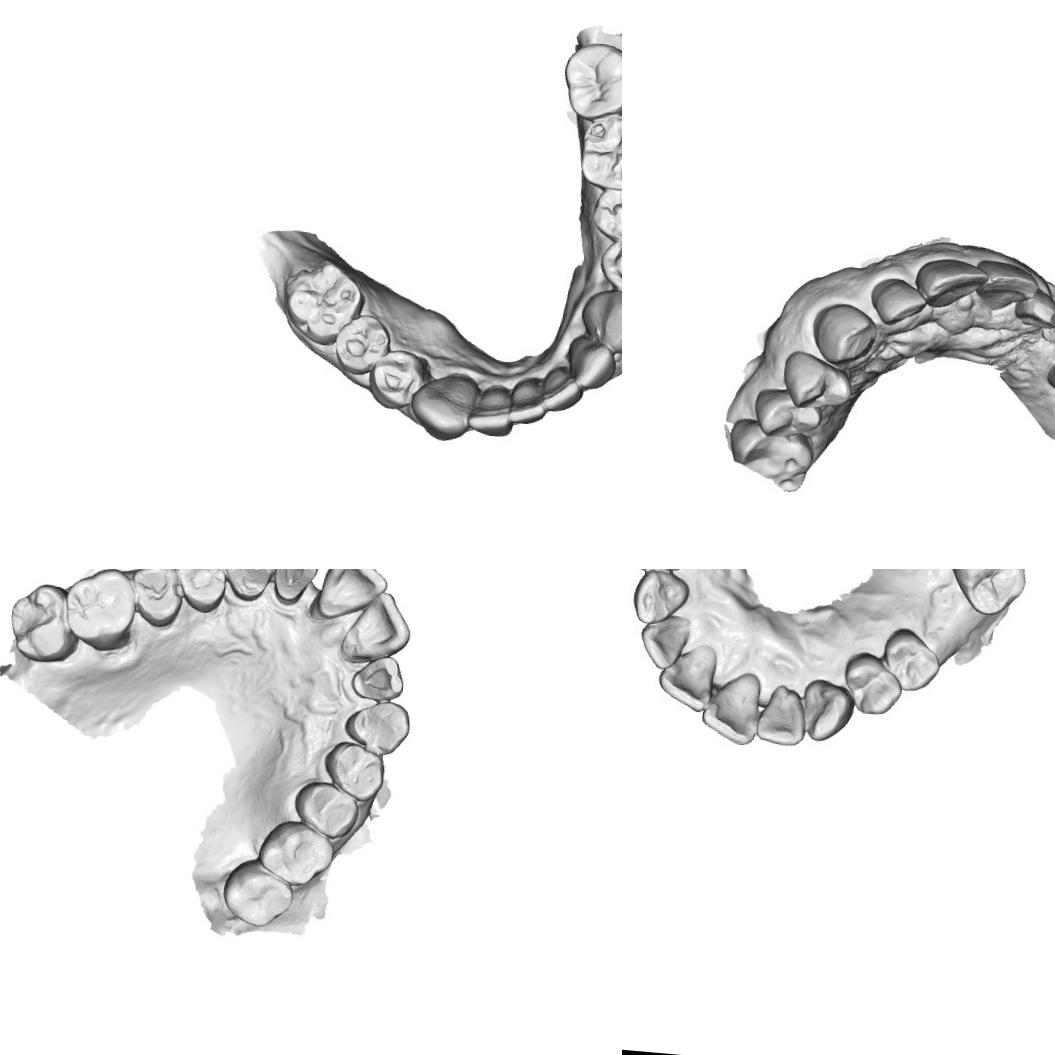canine: (405, 369, 478, 444), (342, 697, 413, 758), (810, 300, 876, 365), (626, 569, 696, 627), (798, 676, 854, 744), (577, 286, 622, 356), (218, 569, 279, 603)
incisor: (336, 586, 414, 669), (698, 670, 764, 746), (306, 569, 389, 627), (654, 642, 719, 711), (916, 254, 989, 314), (754, 686, 808, 748), (867, 272, 925, 328), (972, 258, 1032, 312), (563, 333, 618, 391), (636, 612, 690, 670), (348, 650, 407, 702), (466, 382, 516, 438), (541, 365, 585, 414), (507, 376, 548, 426), (270, 569, 320, 607), (1014, 289, 1055, 334)
molar: (278, 256, 368, 348), (726, 423, 817, 498), (60, 569, 139, 653), (6, 580, 84, 665), (254, 816, 336, 889), (219, 854, 296, 928), (559, 38, 622, 123), (945, 569, 1030, 621), (577, 110, 622, 194)
premolar: (876, 626, 942, 694), (290, 778, 361, 841), (320, 738, 386, 803), (839, 648, 900, 718), (782, 351, 854, 410), (331, 310, 393, 376), (365, 346, 426, 412), (127, 569, 186, 629), (752, 394, 823, 436), (170, 569, 228, 614), (589, 185, 622, 243), (596, 235, 622, 295)
